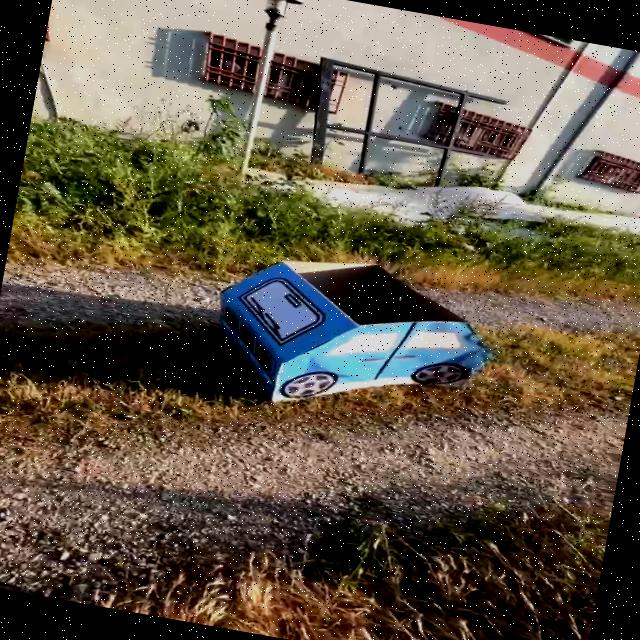blue_car: (109, 217, 548, 451)
